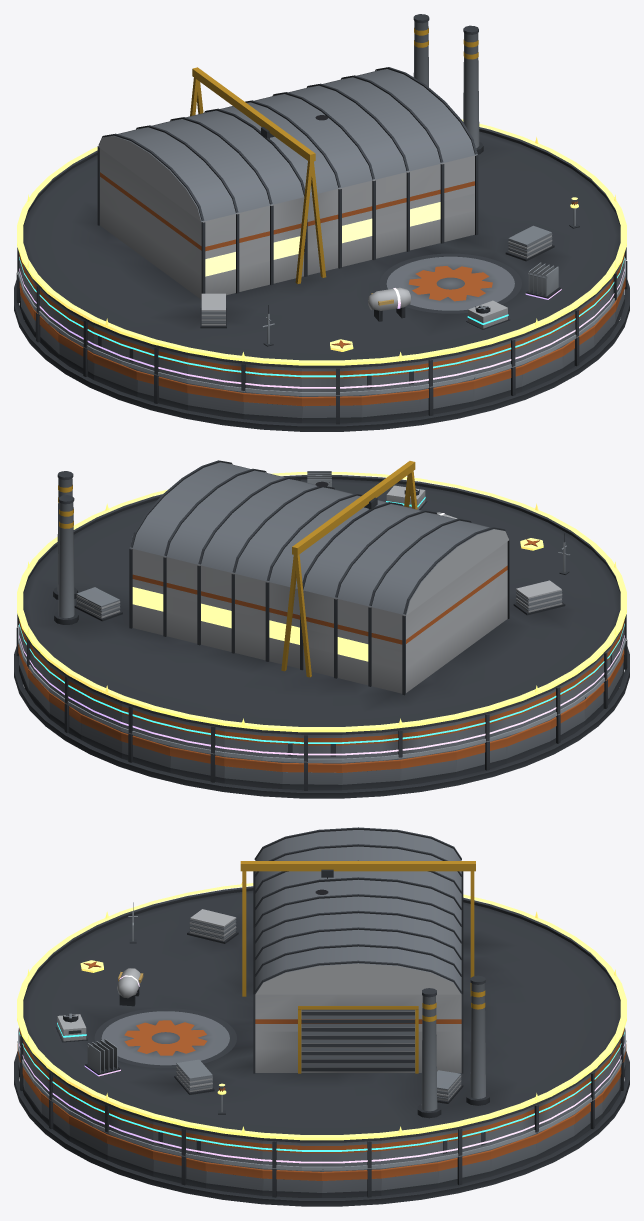
Rendered from fabricator_xl_far.glb.
The picture shows the model from 3 angles, top to bottom: view 1: azimuth 30°, elevation 25°; view 2: azimuth 150°, elevation 25°; view 3: azimuth 270°, elevation 25°; orthographic projection.
Visible parts, largest first — view 1: Roof, Base, L5, L4, L2, L3; view 2: Roof, Base, L5, L2, L3, L4; view 3: Roof, Base, L5, L4, L2, L3.
Boxes of the visible parts, left/top/right/bottom form: Roof: left=17, top=14, right=626, bottom=394; Base: left=14, top=261, right=629, bottom=431; L5: left=17, top=119, right=626, bottom=365; L4: left=19, top=262, right=624, bottom=388; L2: left=18, top=258, right=625, bottom=395; L3: left=19, top=257, right=624, bottom=377; Roof: left=17, top=460, right=626, bottom=761; Base: left=14, top=627, right=629, bottom=798; L5: left=17, top=472, right=626, bottom=732; L2: left=18, top=533, right=625, bottom=762; L3: left=19, top=485, right=624, bottom=743; L4: left=19, top=471, right=624, bottom=755; Roof: left=19, top=827, right=624, bottom=1168; Base: left=14, top=1040, right=629, bottom=1206; L5: left=17, top=882, right=626, bottom=1140; L4: left=19, top=968, right=624, bottom=1163; L2: left=18, top=902, right=625, bottom=1170; L3: left=19, top=1013, right=624, bottom=1151.
Bounding box in the file's own units: 25.25 × 8.57 × 25.25.
